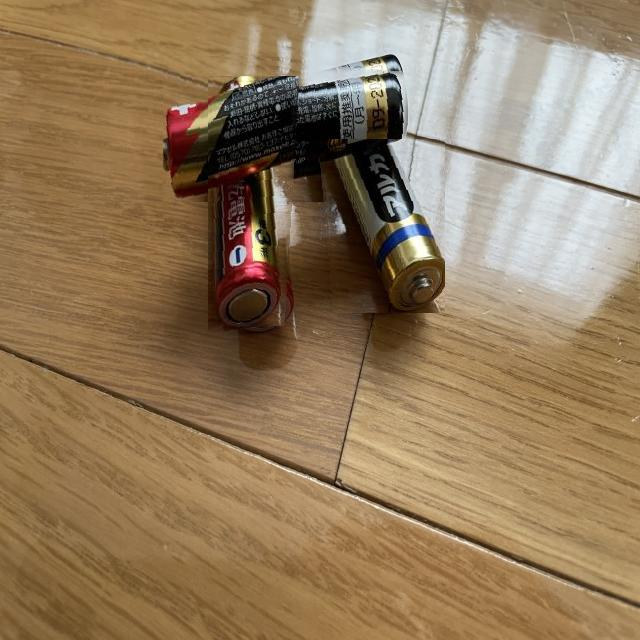battery: (163, 52, 412, 202), (208, 76, 300, 334), (318, 140, 445, 314)
